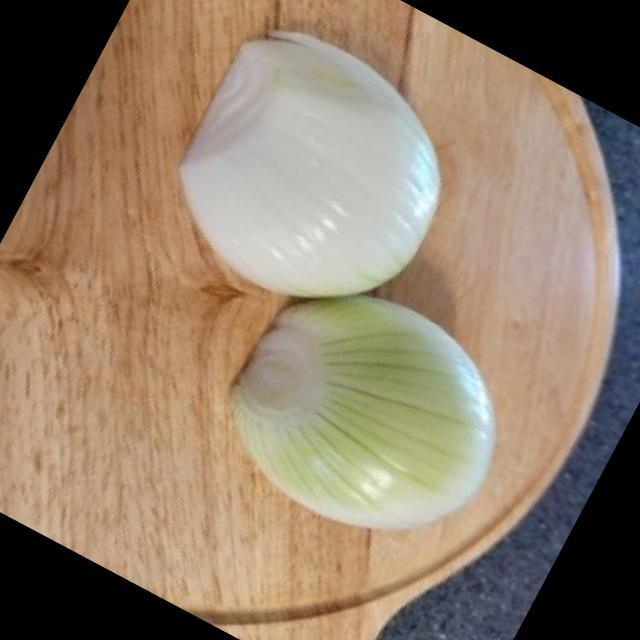Onion: (229, 293, 500, 534), (183, 39, 439, 293)
